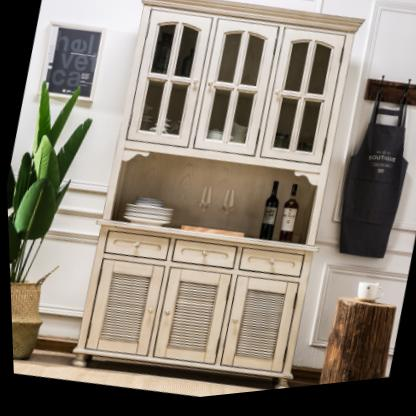Cupboard: (70, 0, 364, 393)
